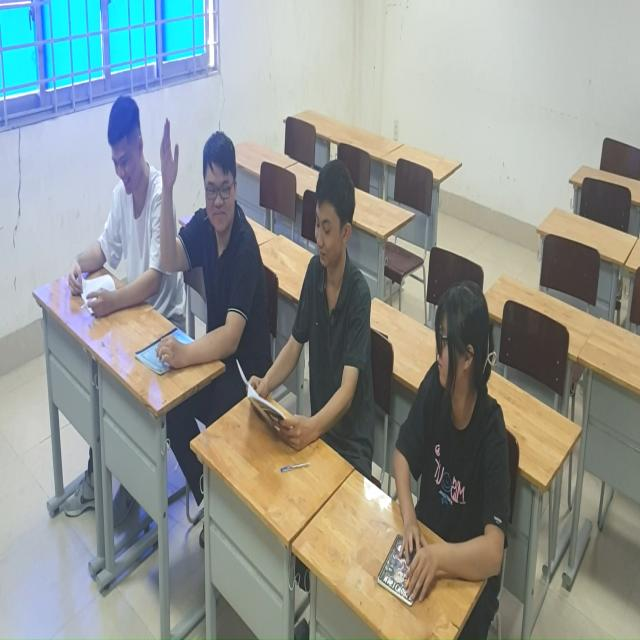raise_hand: (134, 91, 267, 377)
read: (373, 285, 533, 634), (245, 162, 390, 483), (67, 104, 198, 348)
